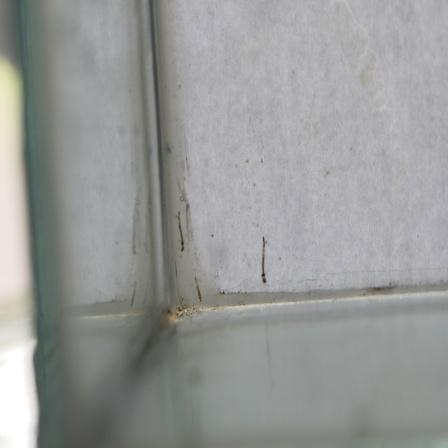Jentik-Nyamuk: (173, 209, 191, 257), (256, 232, 271, 287)
